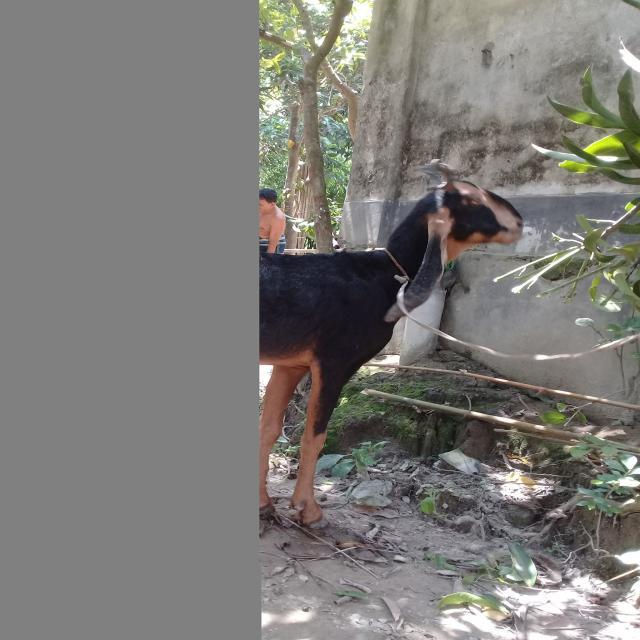Goat: (257, 157, 524, 528)
